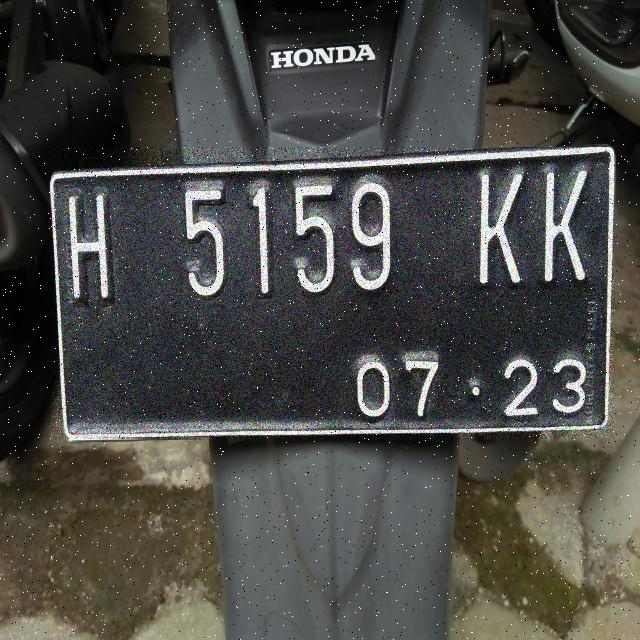plate: (52, 147, 613, 437)
